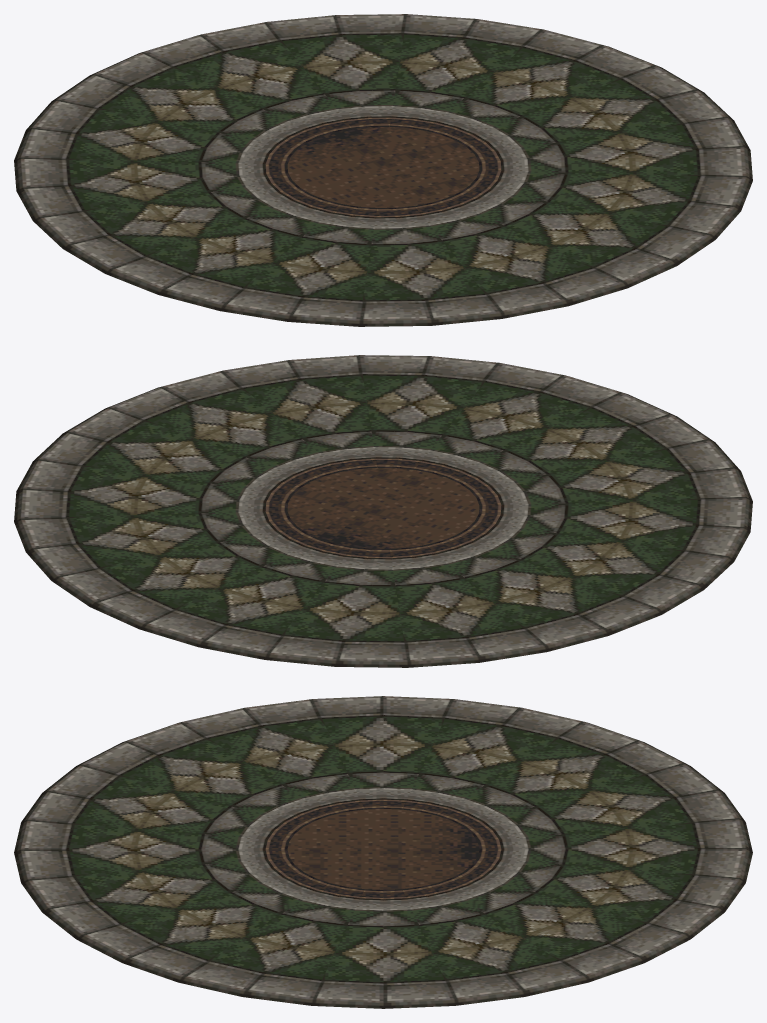
File: EnvMdrMD_DepartmentStore_Indoor_WorldMap.FBX
3 views of the same model, one above another, from view 1: azimuth 30°, elevation 25°; view 2: azimuth 150°, elevation 25°; view 3: azimuth 270°, elevation 25° (orthographic).
Parts seen in each view (by area): view 1: EnvMdrMD_DepartmentStore_Indoor_WorldMap; view 2: EnvMdrMD_DepartmentStore_Indoor_WorldMap; view 3: EnvMdrMD_DepartmentStore_Indoor_WorldMap.
Boxes of the visible parts, x1,y1,x2,y2 form: EnvMdrMD_DepartmentStore_Indoor_WorldMap: (14, 14, 752, 326); EnvMdrMD_DepartmentStore_Indoor_WorldMap: (14, 355, 752, 667); EnvMdrMD_DepartmentStore_Indoor_WorldMap: (14, 696, 752, 1008).
Bounding box in the file's own units: 1000 × 5 × 1000.
Materials: 1 (1 with a texture image).
